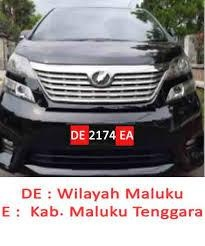plate: (70, 124, 136, 149)
